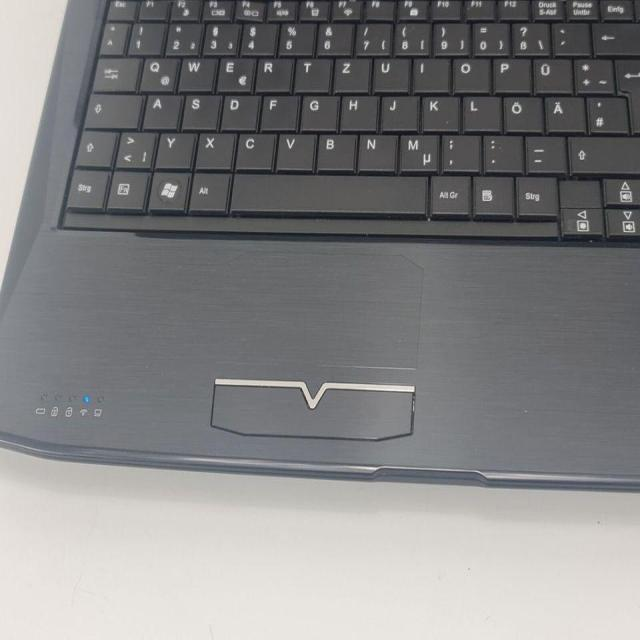0: (470, 19, 508, 53)
1: (125, 20, 163, 54)
2: (163, 19, 200, 53)
3: (200, 19, 238, 53)
4: (239, 19, 275, 53)
5: (276, 19, 313, 53)
6: (314, 19, 351, 53)
7: (353, 19, 390, 53)
8: (392, 18, 427, 53)
9: (430, 19, 467, 53)
a: (140, 91, 180, 127)
accent: (550, 19, 588, 53)
ae: (543, 92, 583, 130)
alt-left: (185, 168, 228, 210)
altgr-right: (427, 171, 469, 213)
b: (314, 130, 354, 168)
c: (232, 129, 273, 167)
caret: (98, 20, 126, 53)
comma: (439, 131, 478, 169)
d: (217, 92, 257, 128)
del: (592, 18, 638, 52)
e: (214, 53, 252, 90)
enter: (614, 55, 639, 132)
f: (258, 91, 296, 128)
g: (298, 92, 336, 128)
h: (338, 91, 376, 128)
hash: (585, 93, 627, 131)
i: (411, 54, 447, 89)
j: (379, 92, 415, 128)
k: (419, 92, 457, 128)
keyboard: (52, 3, 638, 243)
l: (461, 91, 499, 129)
less: (112, 127, 154, 166)
m: (397, 130, 437, 169)
minus: (524, 132, 564, 170)
n: (355, 130, 395, 169)
o: (450, 54, 487, 90)
oe: (501, 92, 541, 130)
p: (490, 53, 528, 90)
plus: (572, 55, 612, 92)
point: (481, 131, 521, 169)
q: (137, 54, 176, 90)
r: (253, 54, 290, 90)
s: (179, 91, 218, 127)
shift-left: (71, 127, 115, 165)
shift-lock: (81, 90, 140, 126)
shift-right: (568, 132, 638, 172)
space: (227, 170, 427, 212)
ss: (510, 19, 548, 53)
strg-left: (62, 166, 107, 207)
strg-right: (513, 172, 557, 214)
t: (291, 54, 329, 90)
tab: (90, 53, 138, 89)
u: (370, 54, 407, 90)
ue: (530, 54, 570, 92)
v: (274, 130, 314, 168)
w: (176, 53, 214, 90)
x: (193, 129, 232, 167)
y: (153, 129, 193, 166)
z: (331, 54, 368, 90)
